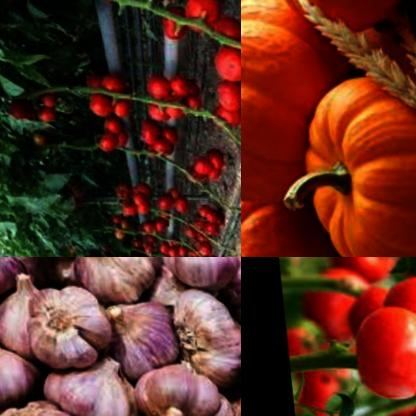garlic: (0, 257, 241, 416)
pumpkin: (241, 0, 363, 203), (285, 76, 416, 257), (241, 185, 336, 257), (250, 0, 412, 35)
tomato: (146, 0, 241, 74), (346, 304, 416, 397), (137, 71, 207, 126), (0, 80, 62, 142), (70, 69, 135, 127), (301, 287, 360, 342), (291, 361, 343, 416), (382, 276, 416, 360), (102, 176, 163, 219), (201, 75, 241, 131), (174, 198, 215, 245), (98, 210, 153, 244), (177, 146, 221, 185), (82, 116, 132, 148), (135, 119, 172, 160), (139, 216, 175, 257), (333, 257, 389, 279), (146, 184, 181, 215), (172, 240, 209, 257)
